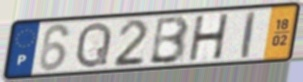2: (113, 17, 150, 69)
6: (37, 22, 74, 73)
B: (147, 14, 192, 66)
H: (188, 12, 232, 63)
I: (240, 9, 258, 61)
Q: (74, 20, 114, 71)
